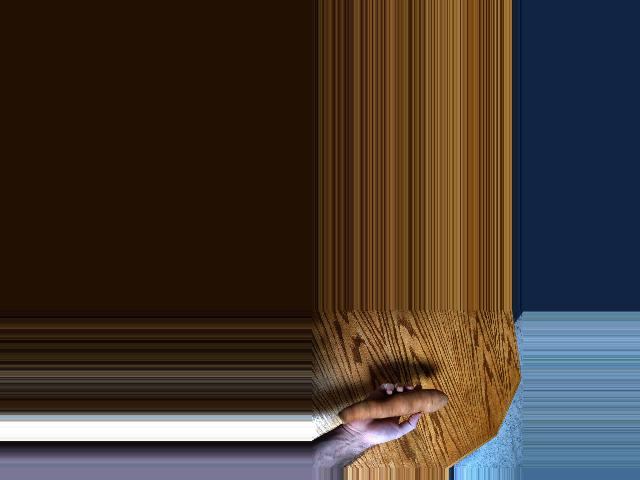sweet_potato: (343, 381, 448, 424)
